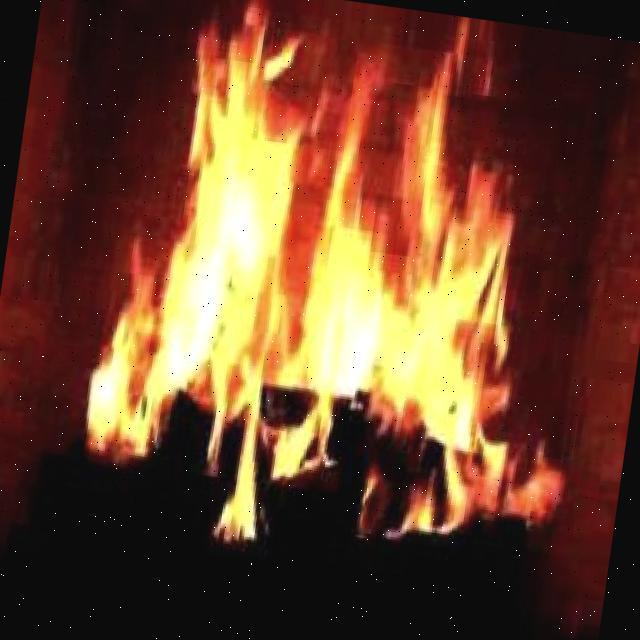Fire: (97, 25, 524, 501)
